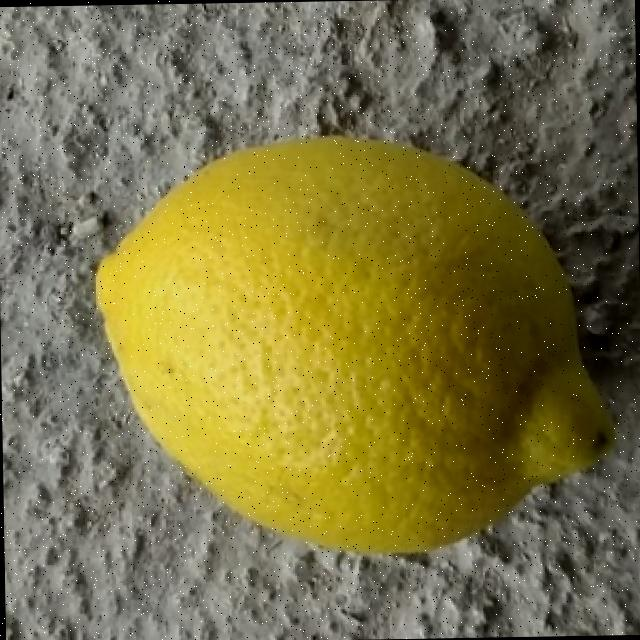Ripe: (84, 128, 619, 559)
